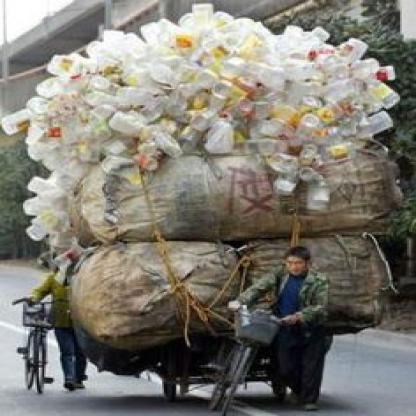overloaded-truck: (35, 12, 414, 366)
